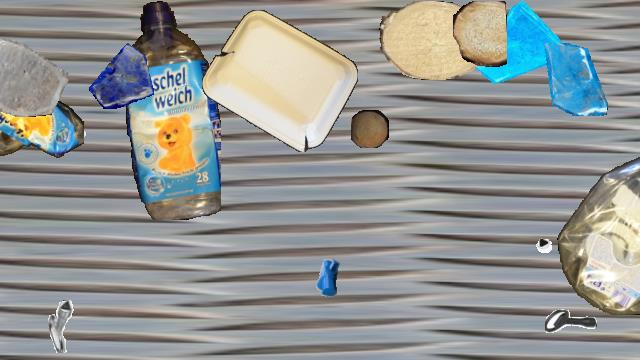glass: (476, 1, 566, 91), (0, 27, 69, 117), (538, 43, 610, 115), (88, 42, 154, 108)
metal: (149, 98, 209, 158), (298, 246, 356, 304), (499, 199, 557, 257), (48, 299, 102, 353), (545, 297, 597, 349), (50, 100, 90, 140)
plastic: (202, 10, 358, 152), (126, 1, 220, 219), (557, 136, 640, 314), (0, 77, 84, 167)
wood: (379, 1, 485, 79), (453, 1, 507, 67), (351, 110, 389, 148)
